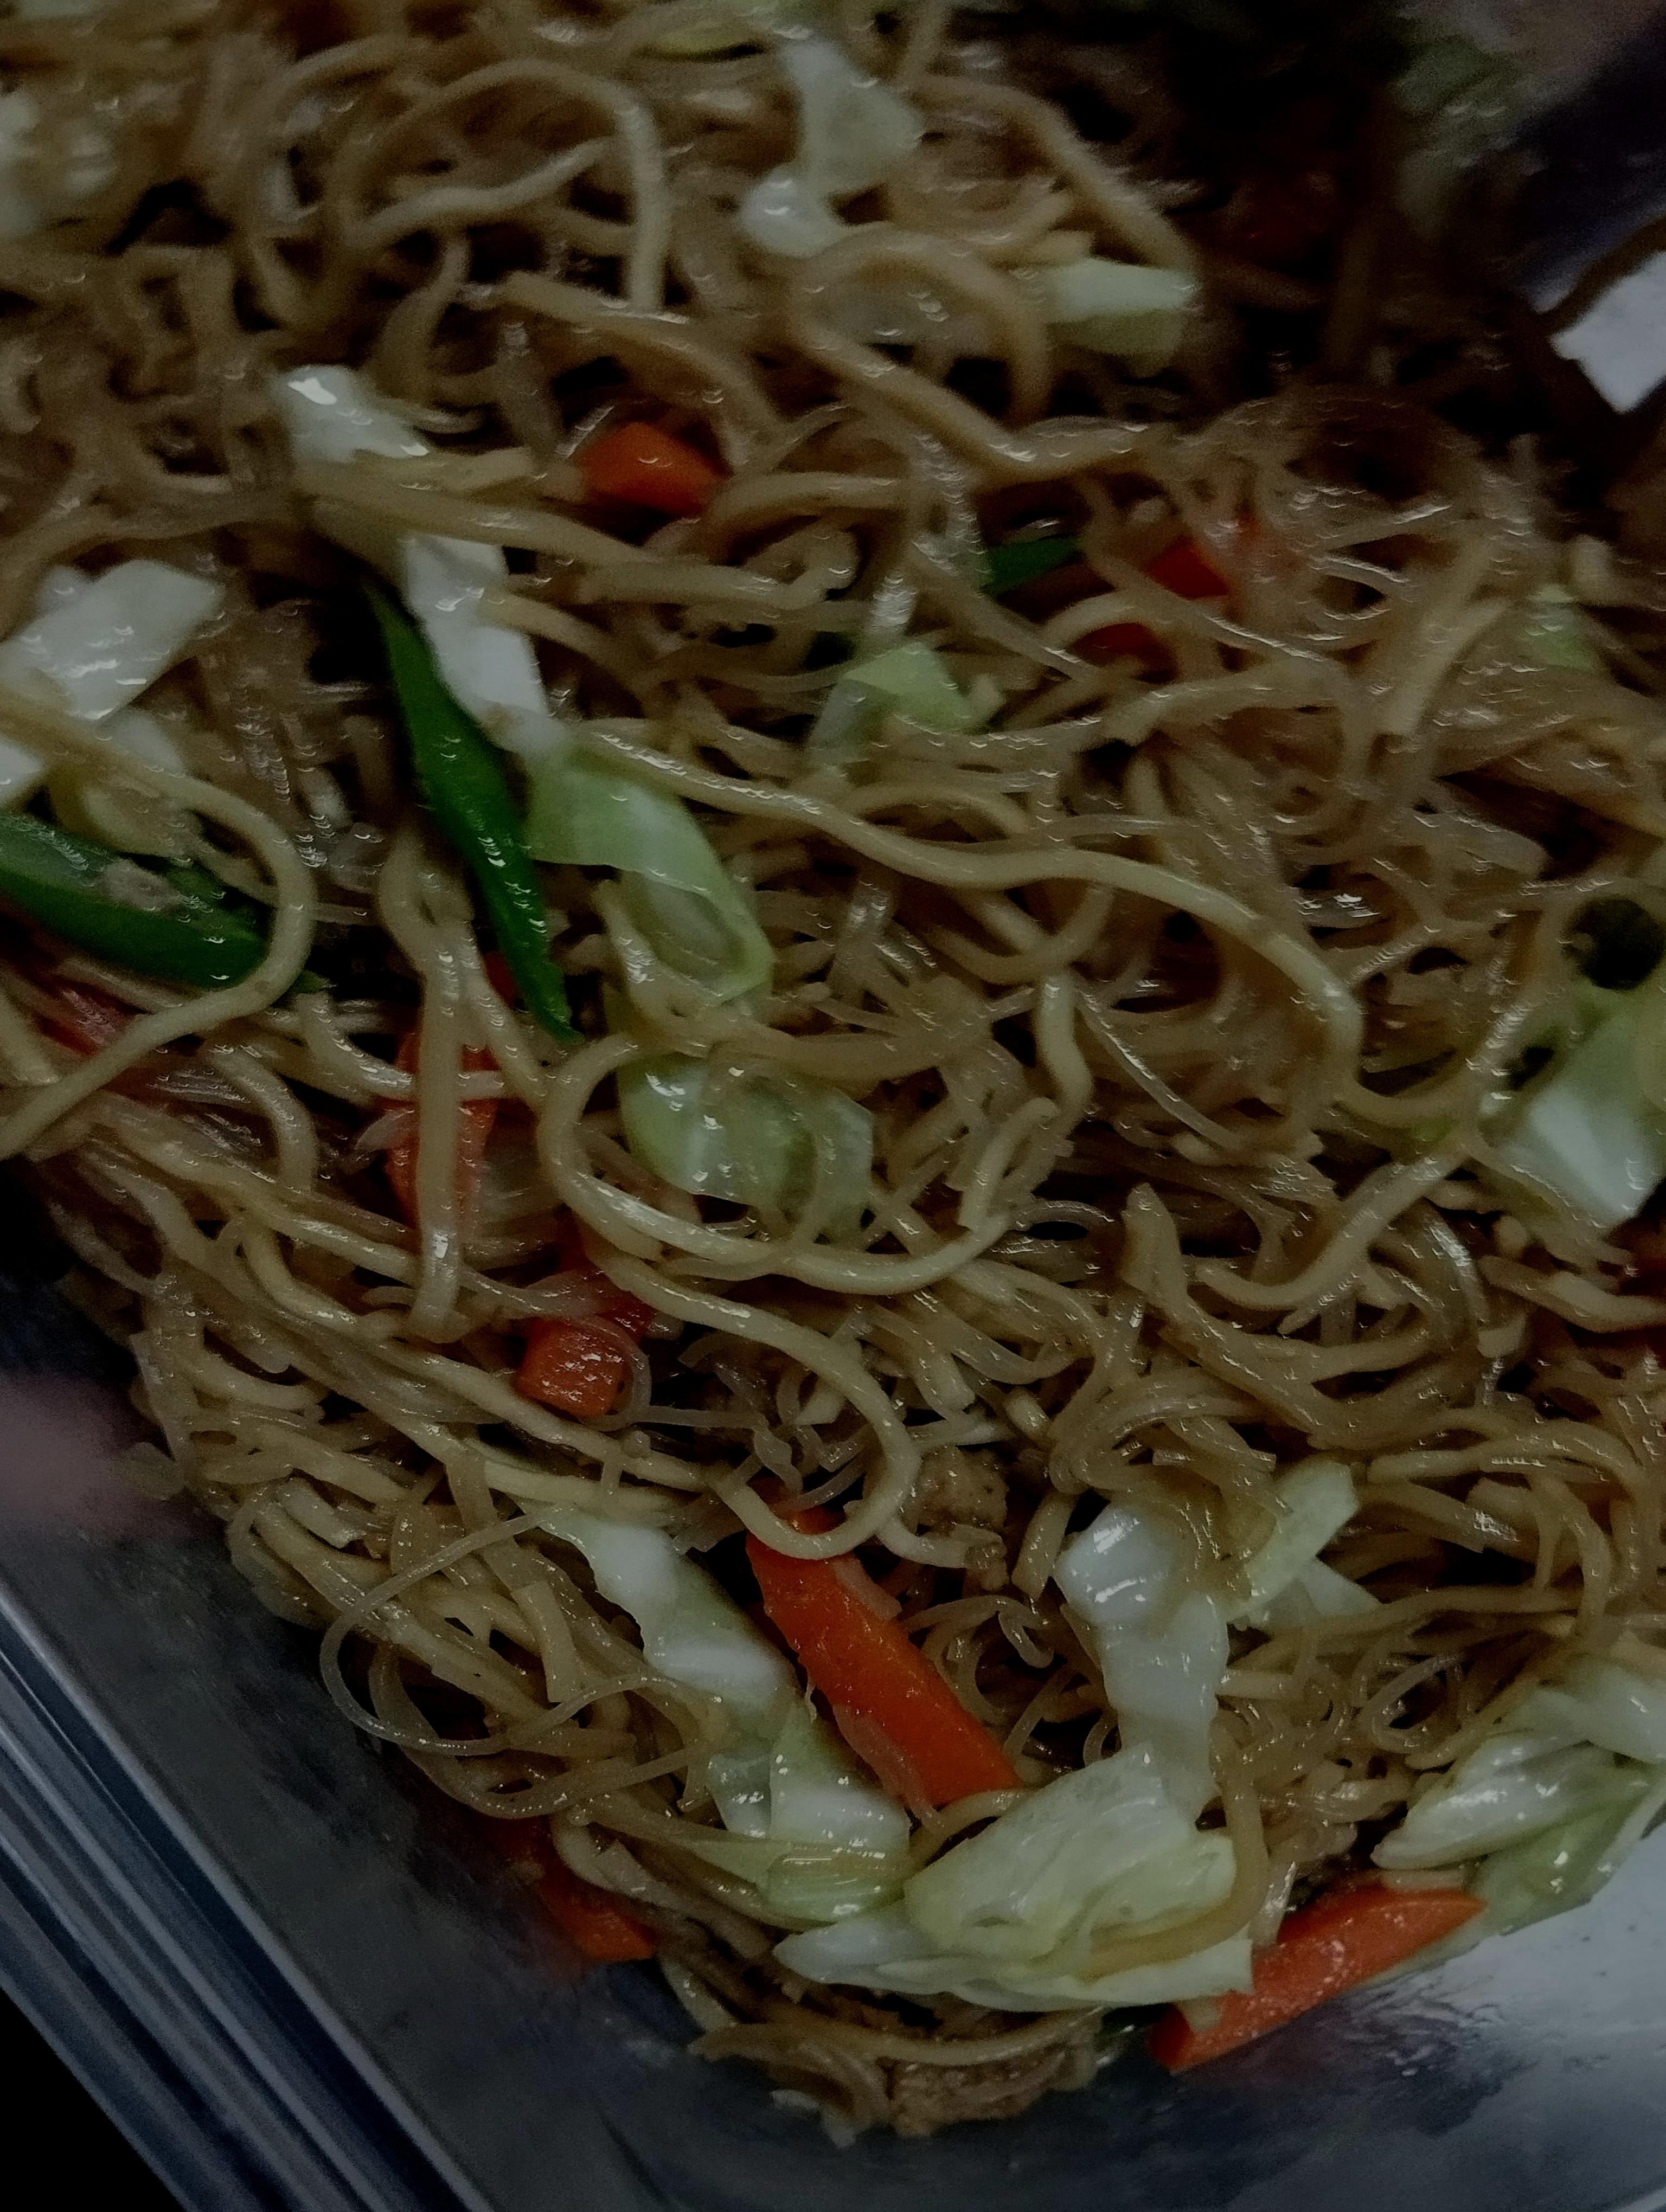pancit bihon: (0, 5, 1666, 2186)
